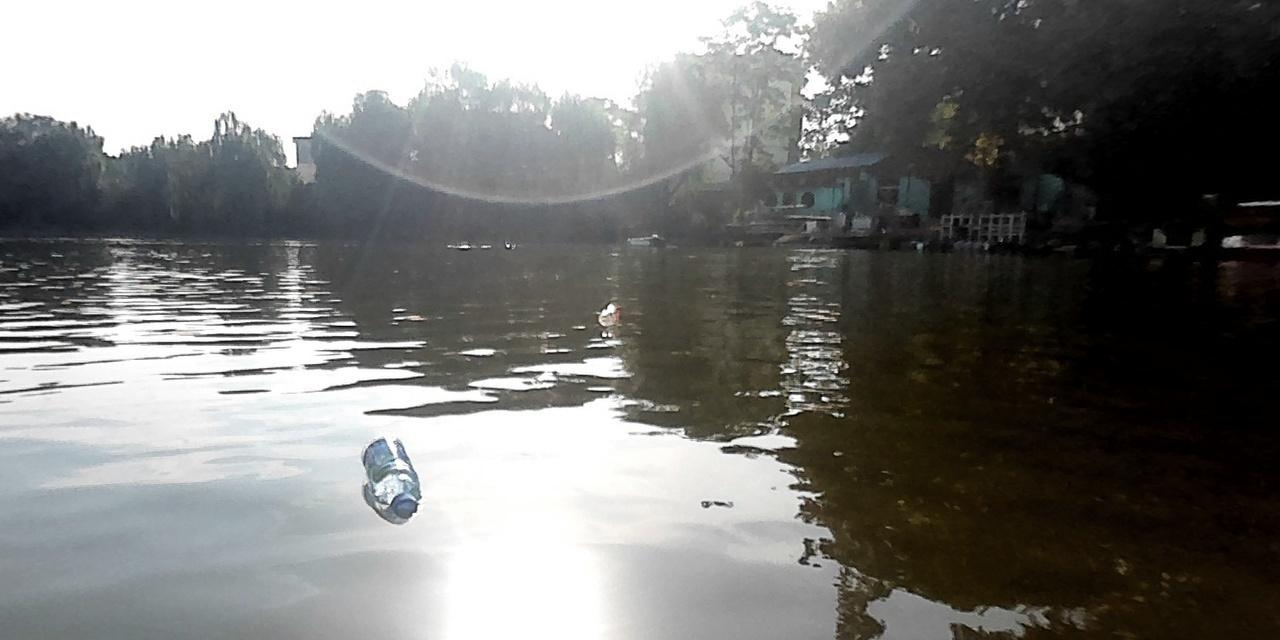Plastic: (358, 432, 425, 520), (597, 302, 621, 325)
